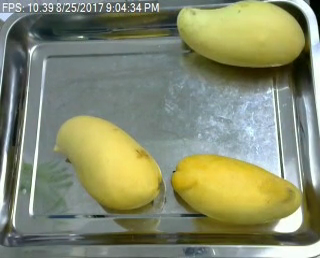Mango: (53, 114, 166, 211), (171, 152, 304, 230), (175, 1, 308, 69)
